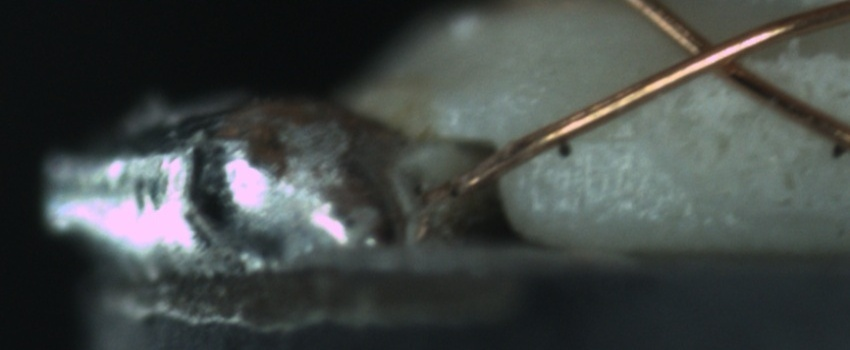CL: (657, 19, 767, 90)
DL: (559, 111, 643, 166)
